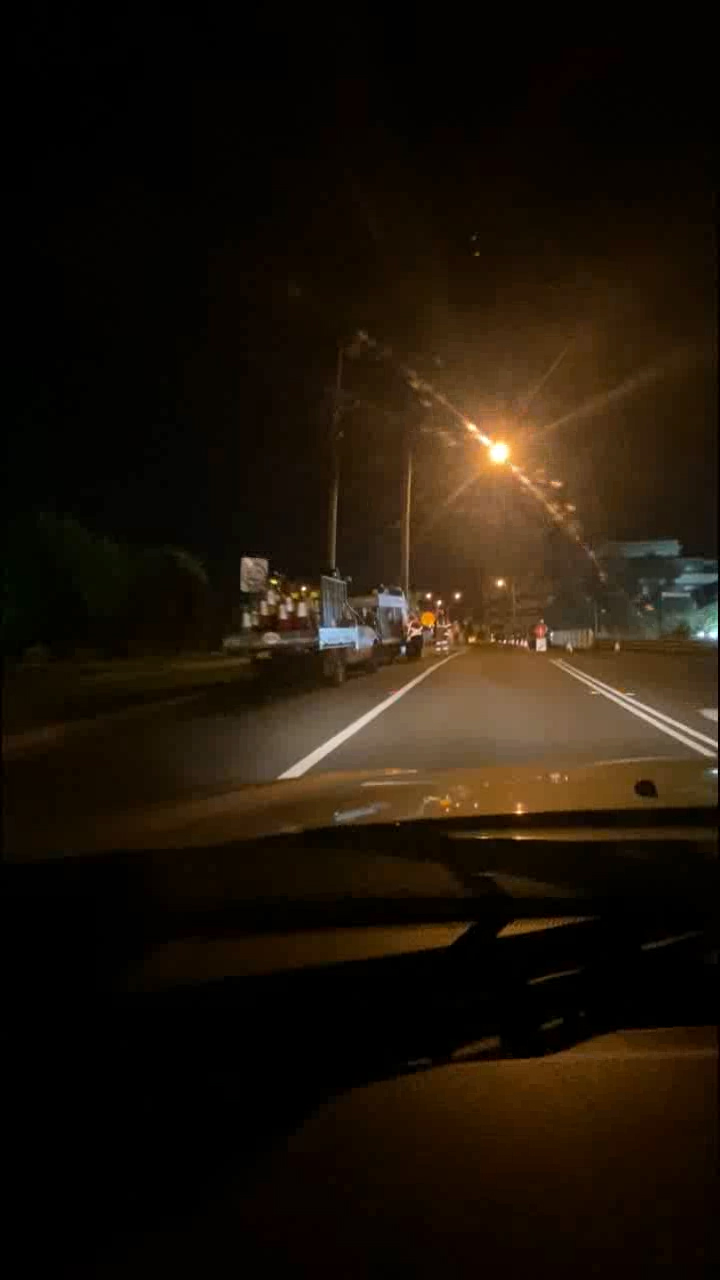car: (247, 572, 380, 687)
person: (403, 612, 423, 663), (432, 613, 452, 662)
